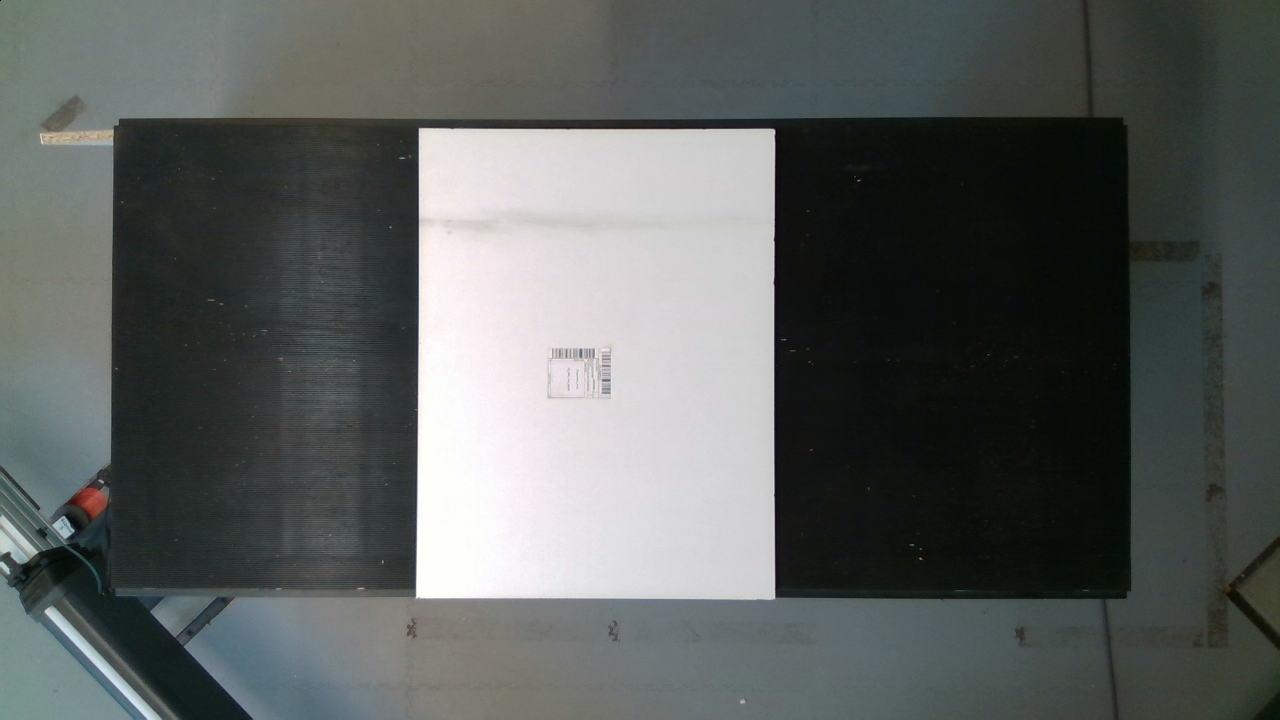barcode: (538, 335, 629, 408)
part2: (404, 115, 799, 611)
